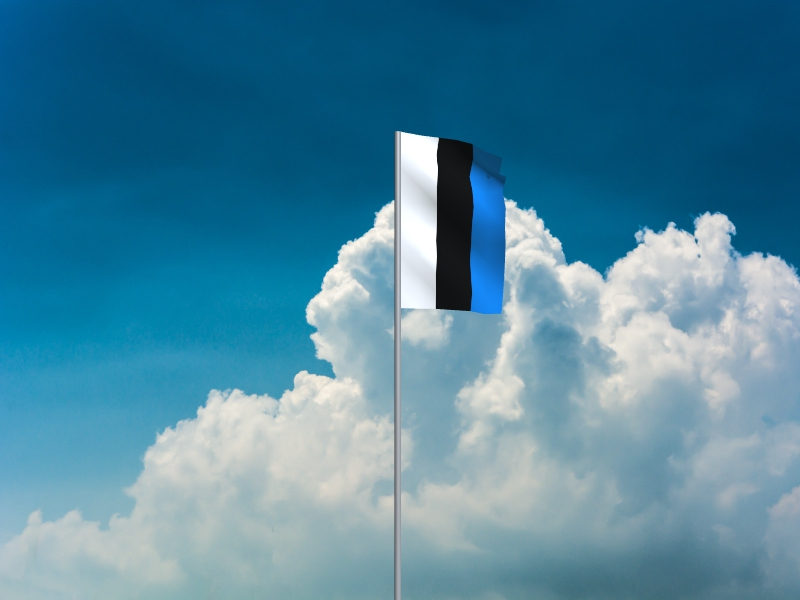ee: (402, 133, 508, 316)
